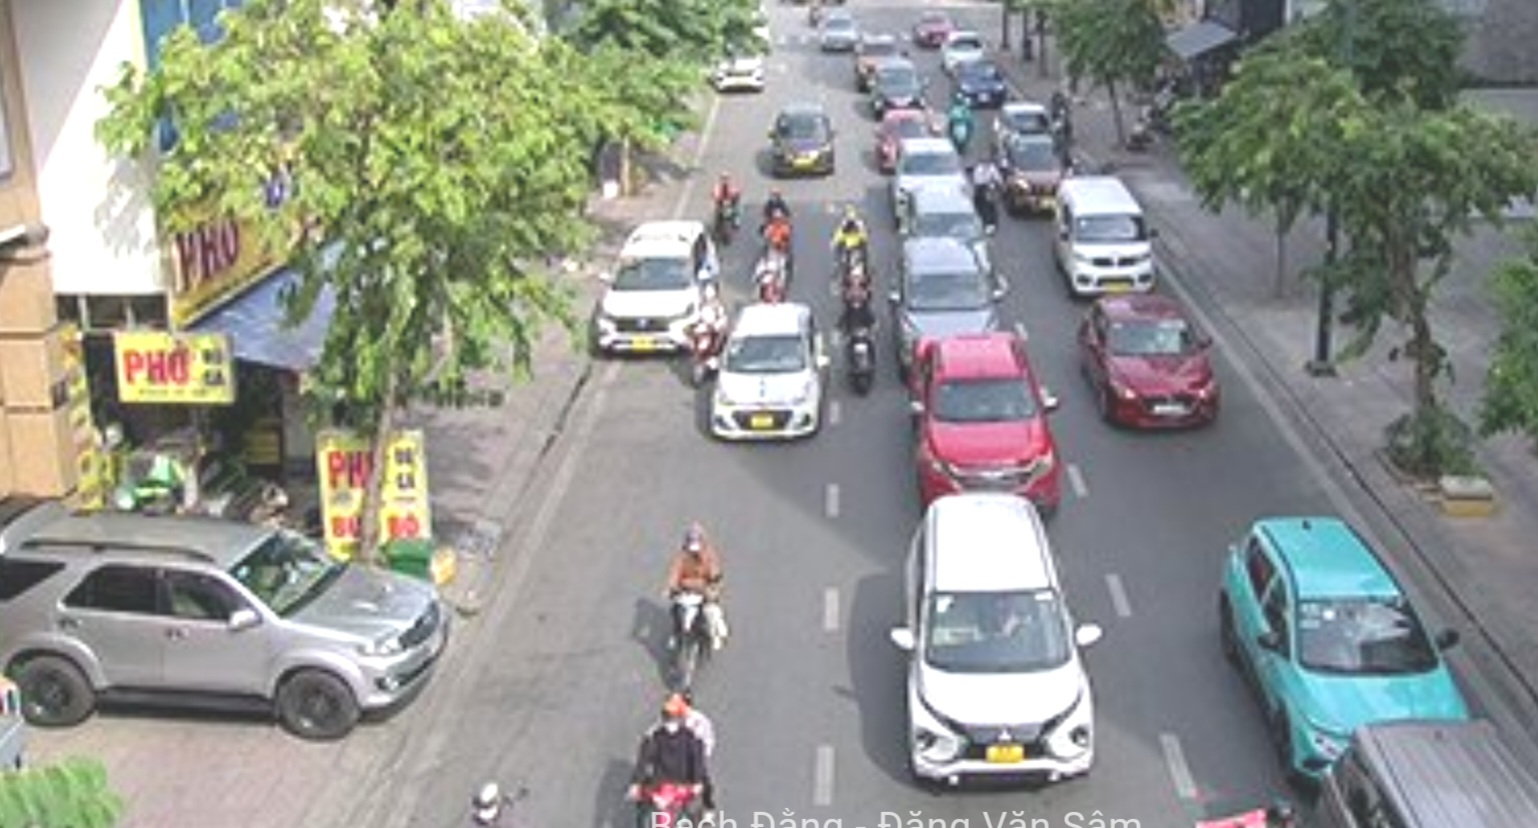car: (904, 498, 1119, 791), (1214, 520, 1472, 722), (908, 342, 1062, 502), (1078, 297, 1225, 431), (597, 214, 722, 361), (712, 302, 830, 436), (1051, 178, 1163, 297), (891, 240, 1004, 339), (1006, 136, 1072, 210), (768, 110, 839, 175), (905, 183, 986, 239), (874, 67, 927, 114), (955, 62, 1007, 107)
